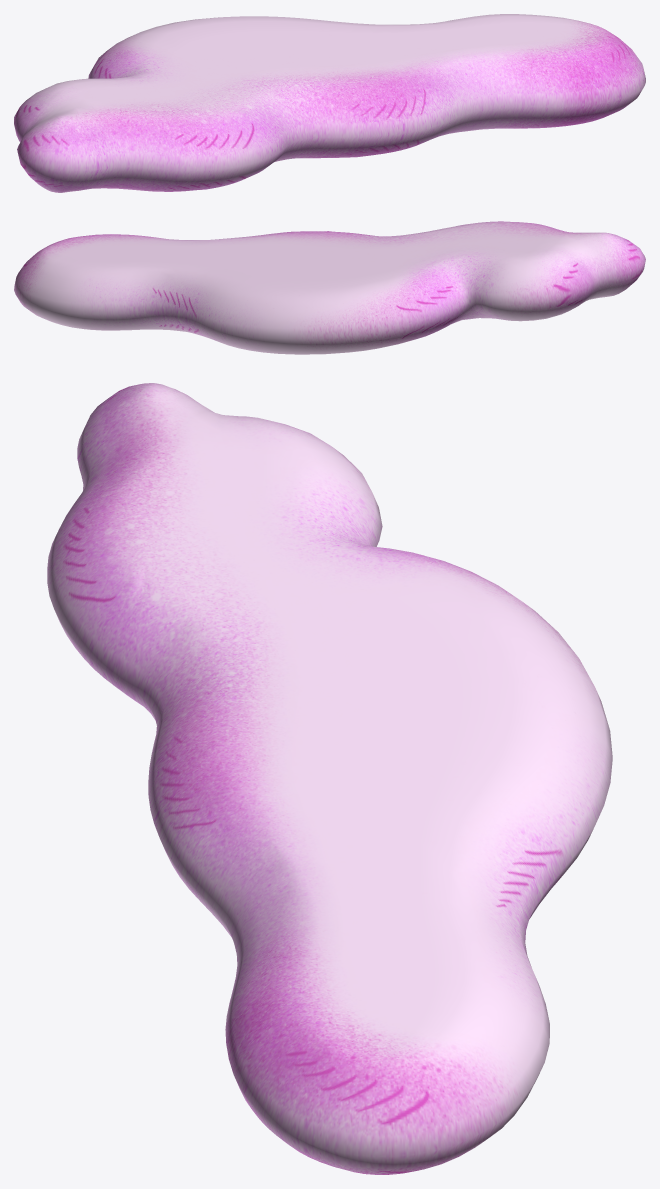
Rendered from Cloud_B003.obj.
3 views of the same model, one above another, from view 1: azimuth 30°, elevation 25°; view 2: azimuth 150°, elevation 25°; view 3: azimuth 270°, elevation 25° (orthographic). The views are drawn at different scales.
Visible parts, largest first — view 1: Cloud_B003; view 2: Cloud_B003; view 3: Cloud_B003.
Part boxes in pixels (x1=…): Cloud_B003: x1=14, y1=14, x2=645, y2=192; Cloud_B003: x1=14, y1=221, x2=645, y2=354; Cloud_B003: x1=47, y1=383, x2=612, y2=1174.
Bounding box in the file's own units: 1.26 × 0.3279 × 0.552.
Materials: 1 (1 with a texture image).
